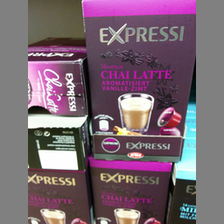coffee: (81, 1, 195, 161), (88, 155, 172, 224)
